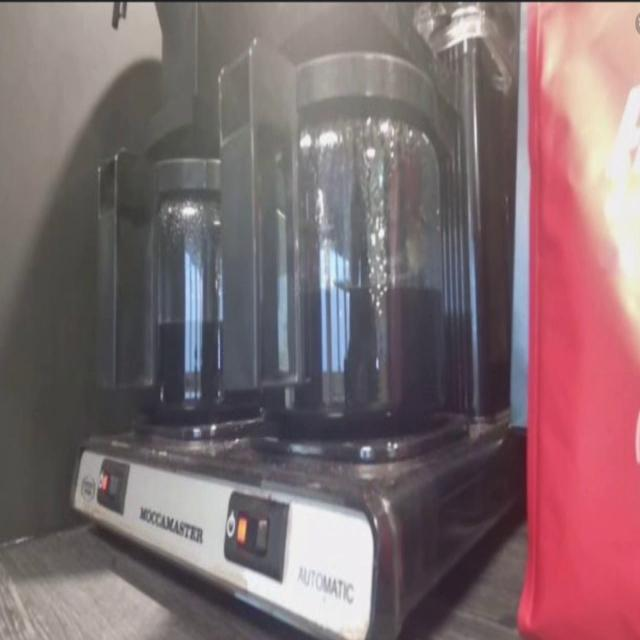coffee: (247, 38, 460, 439), (124, 140, 270, 430)
